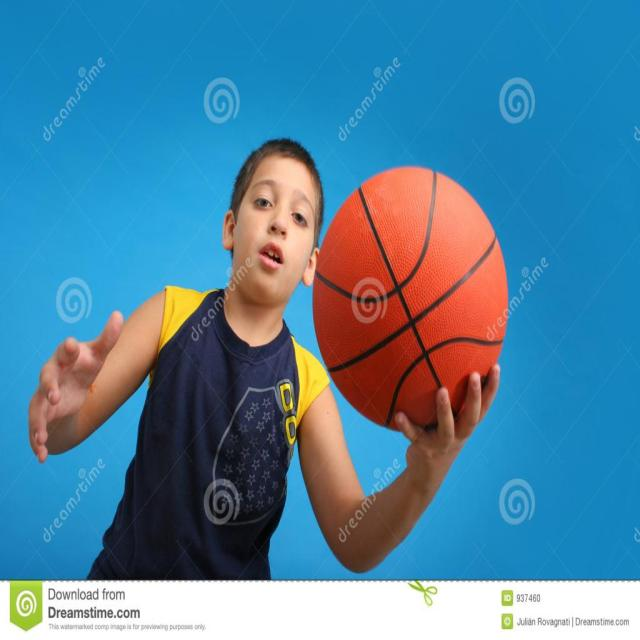Face: (223, 156, 326, 295)
